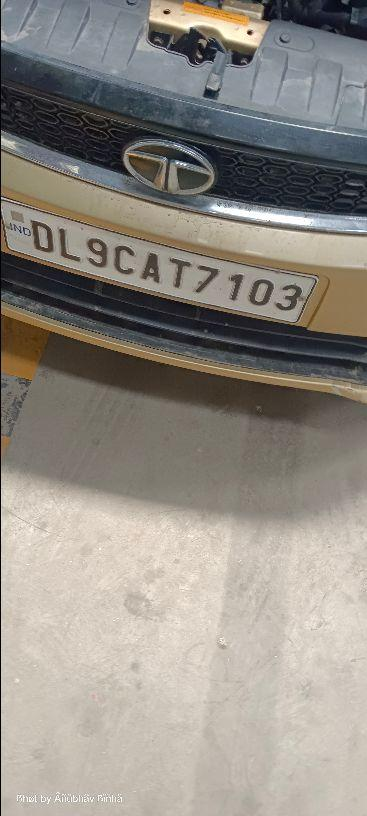license_plate: (1, 0, 366, 402), (1, 193, 322, 328)
